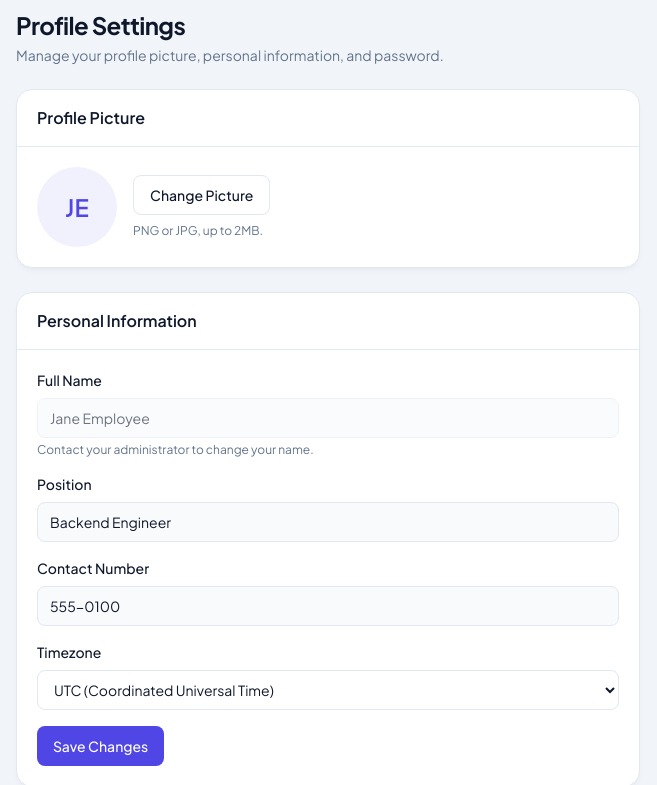
Test: ProfilePage › saves position and contact number, then refreshes the user
The image size is (657, 785).
Replace the text in the field labelled "Position" with "Staff Engineer": (328, 522) [37,502,619,542]
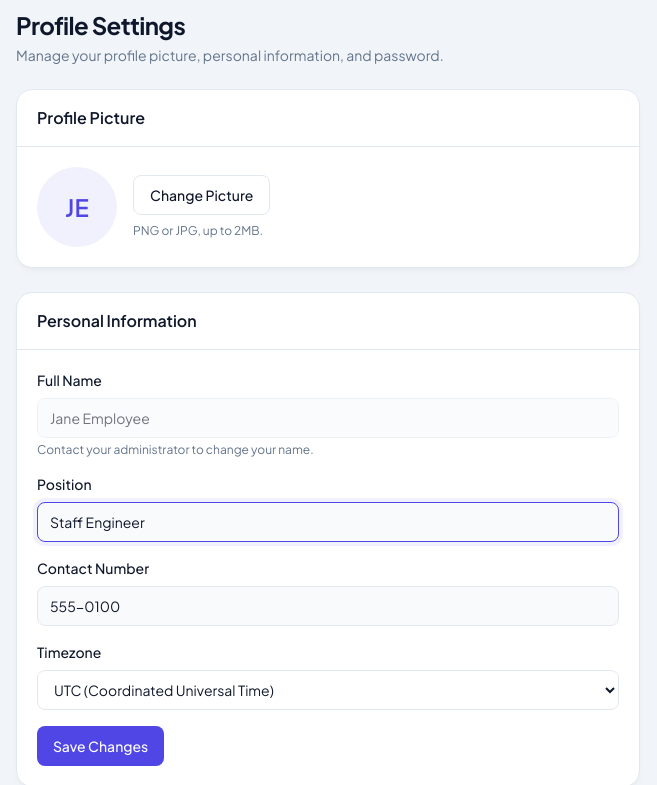
Click the button "Save Changes": (101, 746) [37,726,164,766]
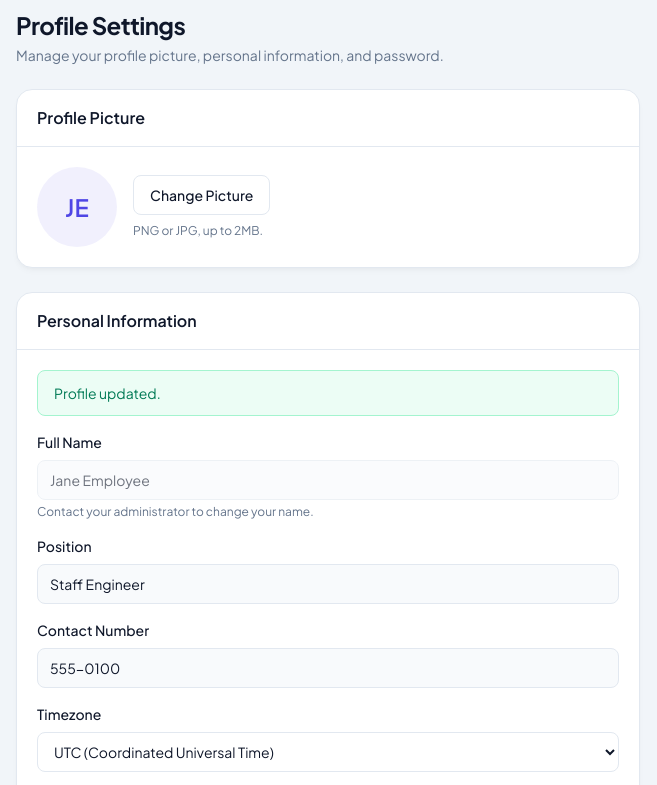
Expected: the text "Profile updated." is shown, [37,370,619,416]
